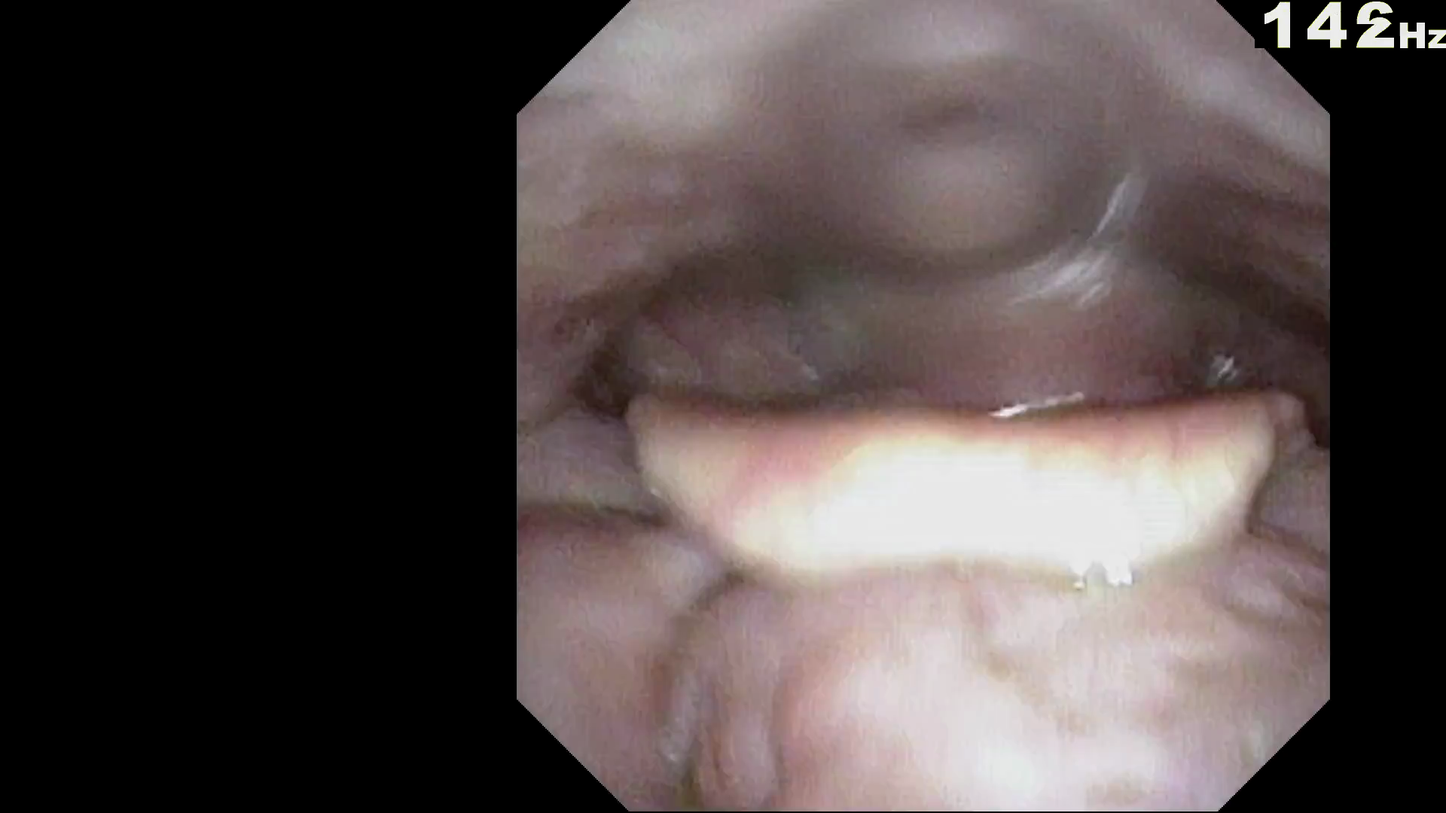epiglottis: (651, 384, 1266, 608)
